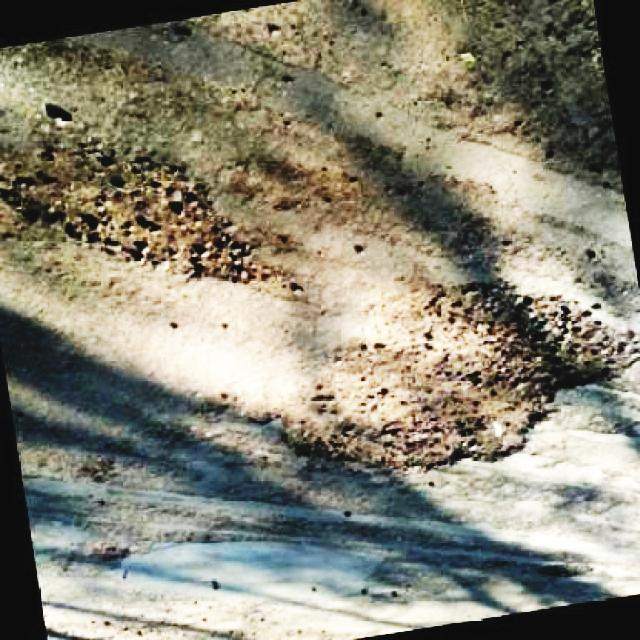pothole: (255, 280, 640, 472), (5, 135, 252, 280)
